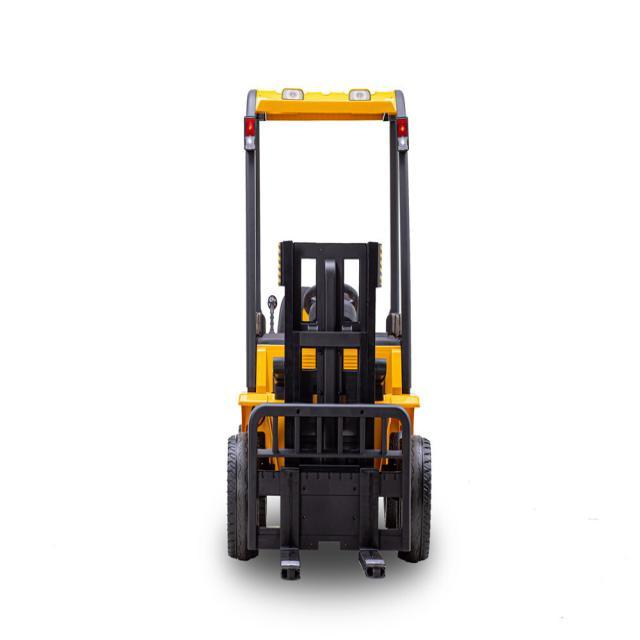forklift: (203, 70, 440, 608)
